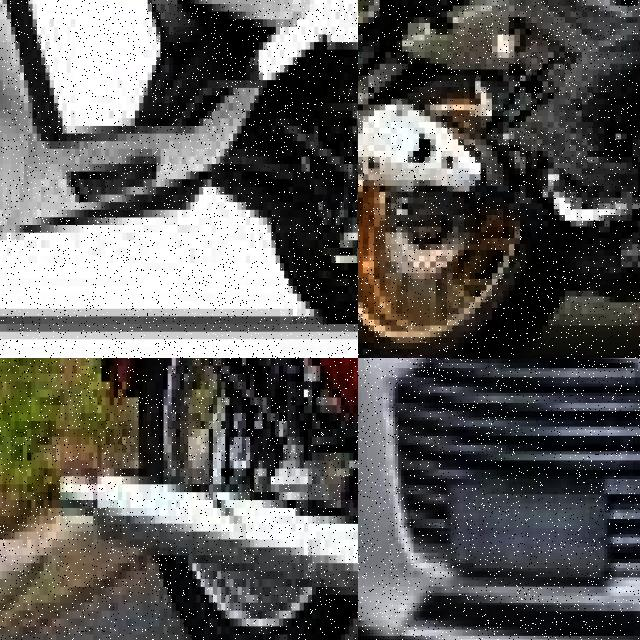bike: (0, 0, 358, 324), (358, 0, 640, 358), (56, 358, 358, 640)
car: (358, 358, 640, 640)
